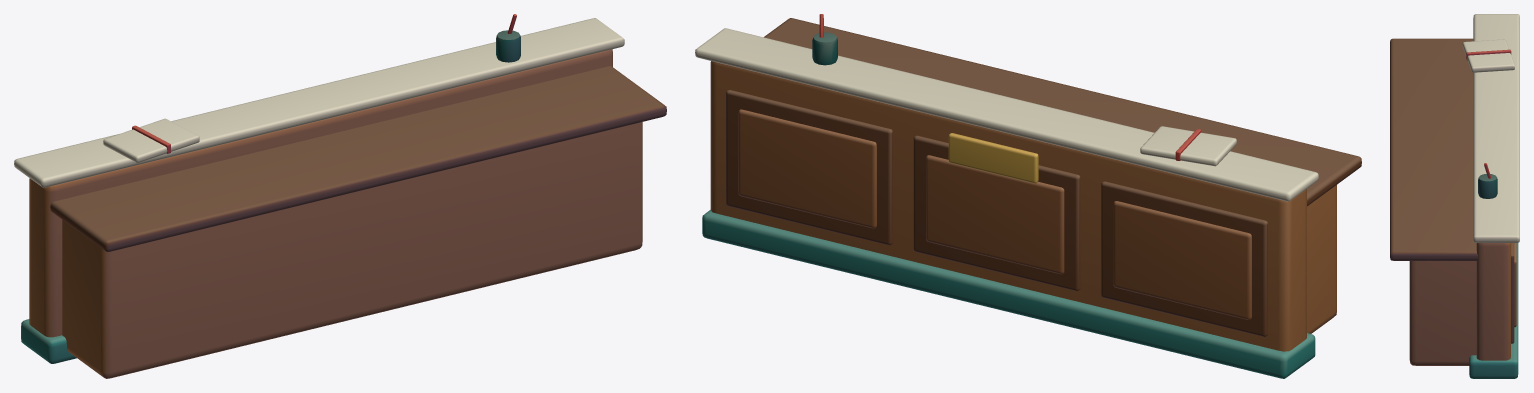
File: FrontDesk.fbx
3 views of the same model, side by side, from view 1: azimuth 30°, elevation 25°; view 2: azimuth 150°, elevation 25°; view 3: azimuth 270°, elevation 25° (orthographic). The views are drawn at different scales.
Visible parts, largest first — view 1: SM_Prop_FrontDesk; view 2: SM_Prop_FrontDesk; view 3: SM_Prop_FrontDesk.
Part boxes in pixels (<box>): SM_Prop_FrontDesk: <box>14,14,666,378</box>; SM_Prop_FrontDesk: <box>695,14,1361,378</box>; SM_Prop_FrontDesk: <box>1390,14,1519,378</box>.
Bounding box in the file's own units: 10.8 × 4.04 × 2.66.
